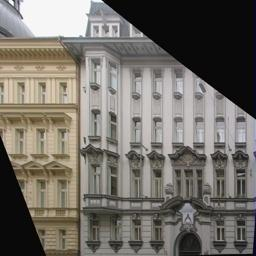building: (78, 0, 256, 256)
